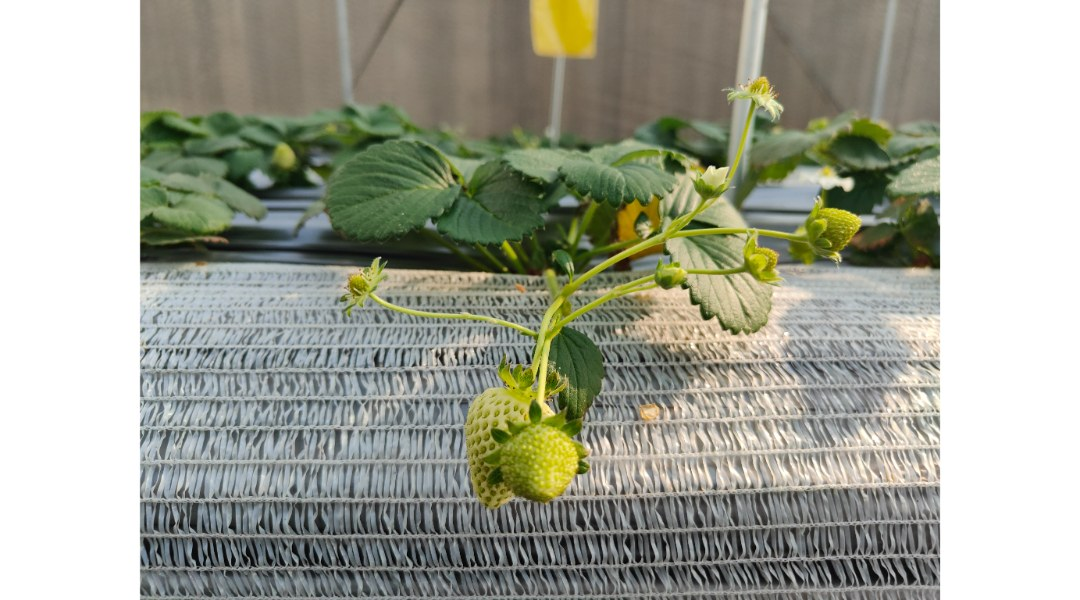berry: (433, 358, 552, 490), (494, 411, 586, 516), (787, 179, 878, 271), (716, 72, 799, 128), (307, 256, 399, 305), (734, 234, 786, 286), (684, 159, 734, 210), (642, 262, 705, 295)
strain: (377, 291, 526, 341), (549, 284, 649, 342), (580, 235, 663, 293)
